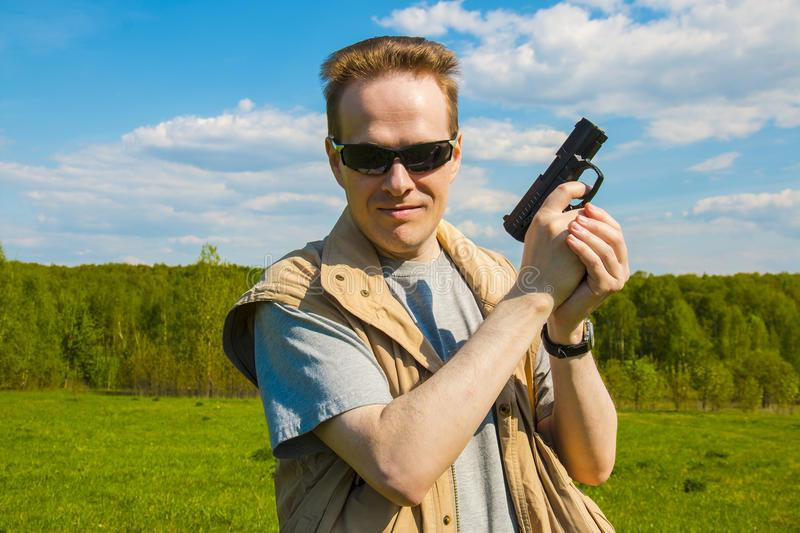criminal: (221, 34, 630, 533)
weapon: (500, 116, 611, 247)
